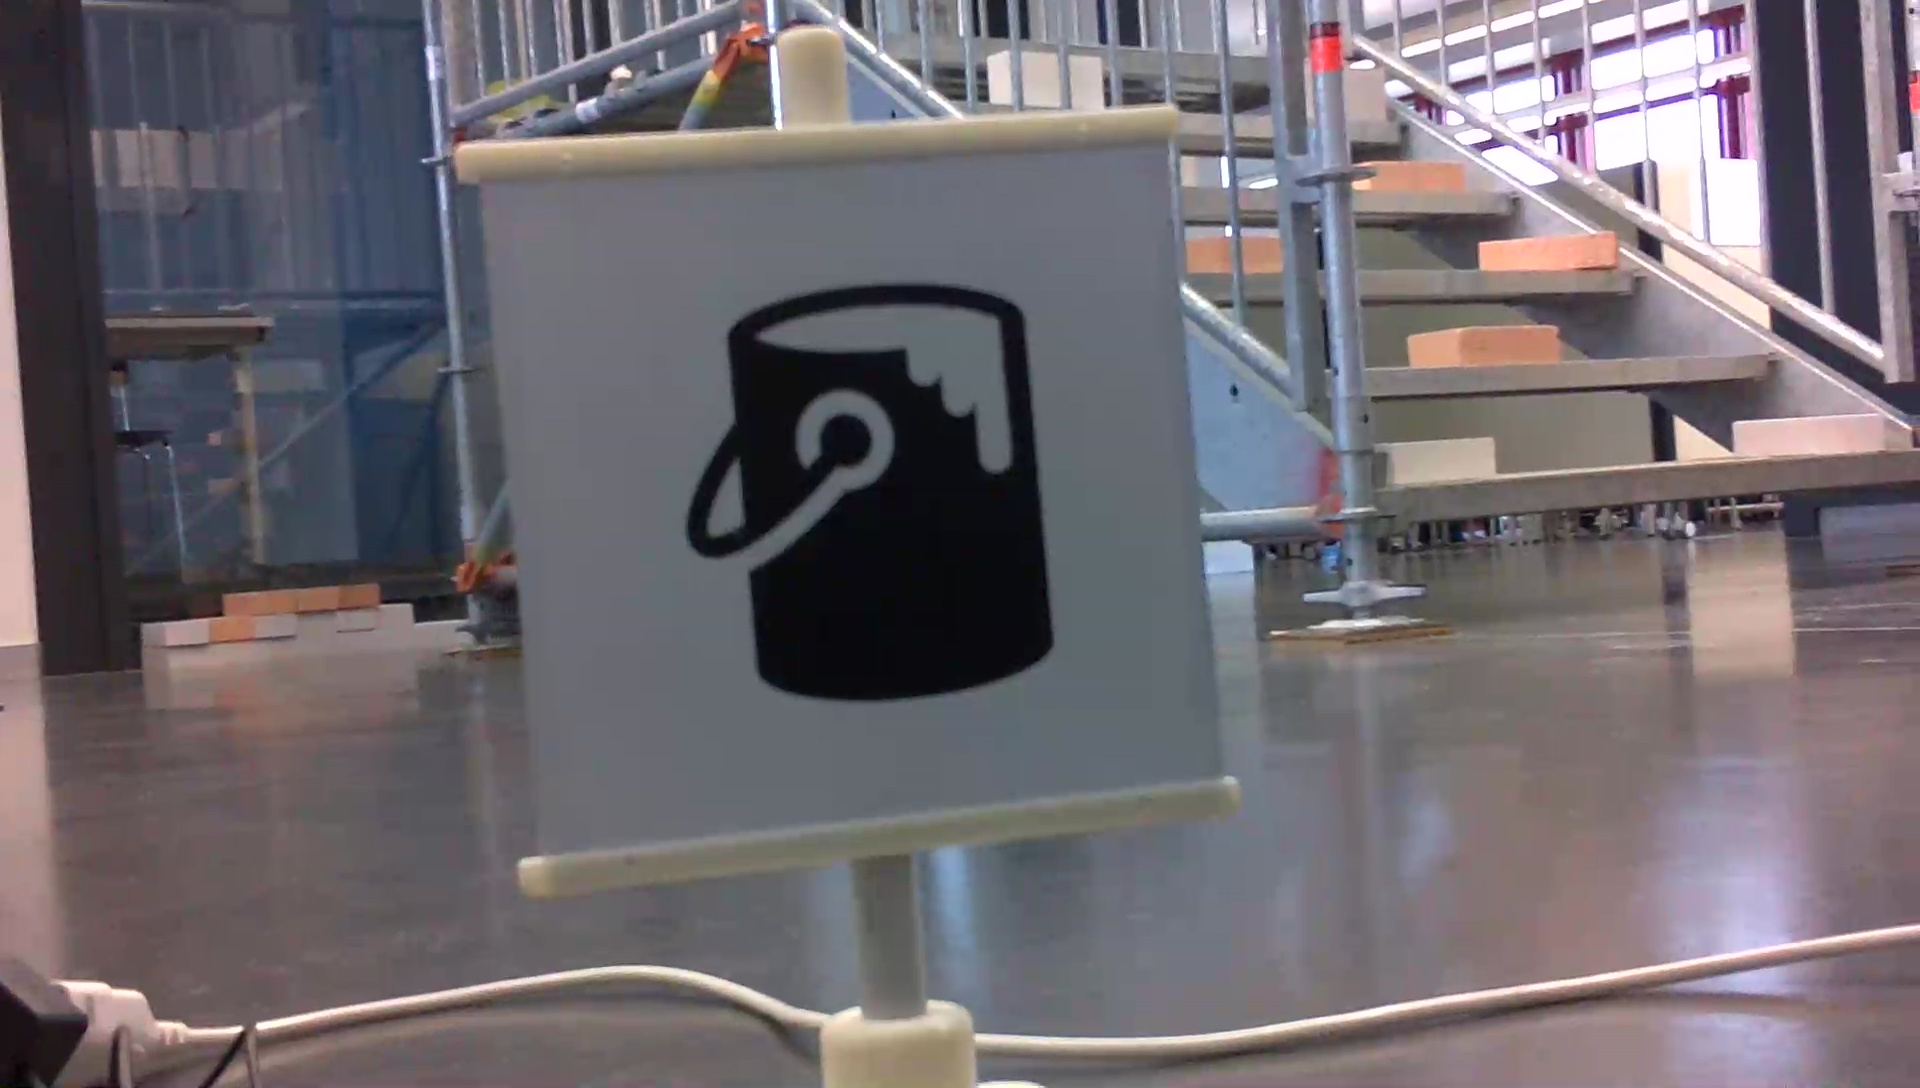brick: (1735, 413, 1876, 458), (1408, 326, 1555, 365), (1476, 233, 1615, 268), (1393, 437, 1493, 481), (1361, 160, 1462, 193), (1340, 70, 1385, 119)
bucket: (673, 274, 1068, 712)
edge: (1393, 455, 1917, 520), (1364, 353, 1783, 393)
